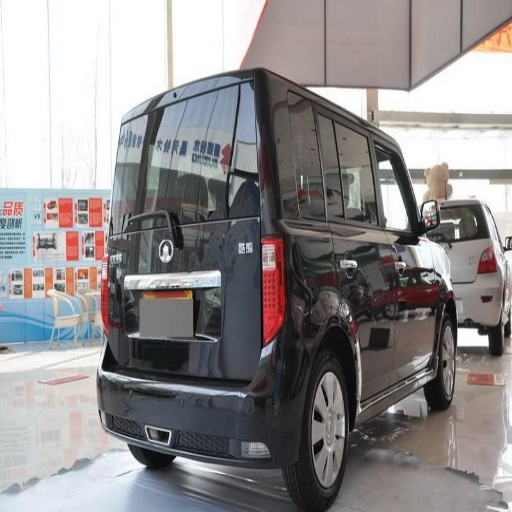back_right_door: (316, 117, 393, 398)
back_right_light: (261, 236, 284, 344)
trunk: (117, 256, 260, 384)
